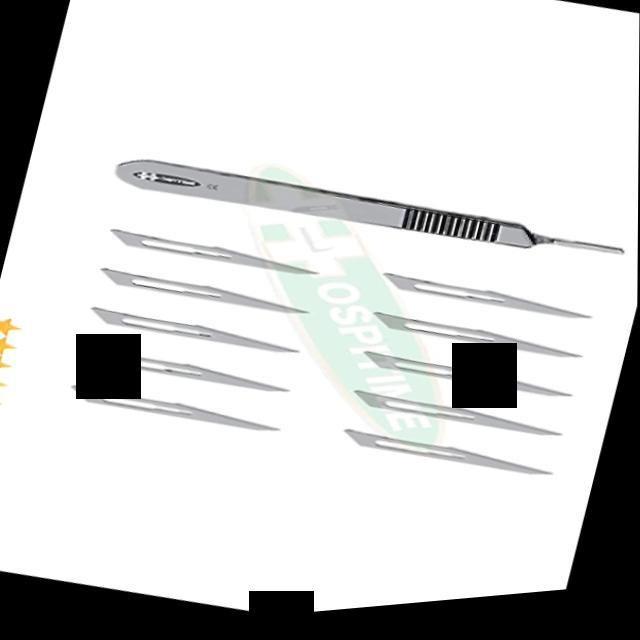Knife handle: (98, 111, 636, 328)
Surgical blade: (373, 255, 602, 353), (102, 212, 333, 306), (366, 298, 590, 394), (70, 326, 295, 421), (353, 338, 580, 431), (89, 250, 318, 341), (58, 368, 284, 460), (336, 417, 557, 509), (346, 378, 567, 469), (80, 291, 302, 381)
